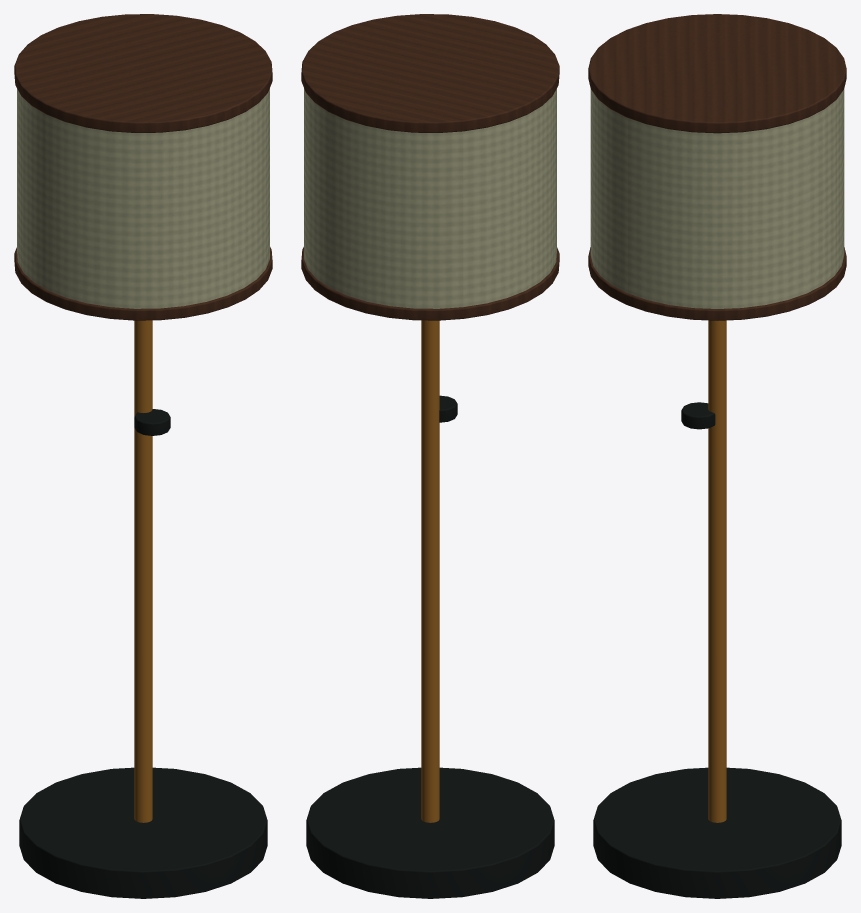
The model's file is floor_lamp.glb.
The picture shows the model from 3 angles, left to right: view 1: azimuth 30°, elevation 25°; view 2: azimuth 150°, elevation 25°; view 3: azimuth 270°, elevation 25°; orthographic projection.
Visible parts, largest first — view 1: V2_floor_lamp_cloth, V2_floor_lamp_walnut, V2_floor_lamp_metal, V2_floor_lamp_brass; view 2: V2_floor_lamp_cloth, V2_floor_lamp_walnut, V2_floor_lamp_metal, V2_floor_lamp_brass; view 3: V2_floor_lamp_cloth, V2_floor_lamp_walnut, V2_floor_lamp_metal, V2_floor_lamp_brass.
Part boxes in pixels (x1,y1,x2,y2): V2_floor_lamp_cloth: (17, 88, 269, 308); V2_floor_lamp_walnut: (14, 14, 272, 320); V2_floor_lamp_metal: (19, 409, 267, 898); V2_floor_lamp_brass: (134, 320, 152, 822); V2_floor_lamp_cloth: (304, 88, 556, 308); V2_floor_lamp_walnut: (301, 14, 559, 320); V2_floor_lamp_metal: (306, 395, 554, 898); V2_floor_lamp_brass: (421, 320, 439, 822); V2_floor_lamp_cloth: (590, 89, 844, 308); V2_floor_lamp_walnut: (588, 14, 846, 320); V2_floor_lamp_metal: (593, 402, 841, 898); V2_floor_lamp_brass: (708, 320, 726, 822).
Bounding box in the file's own units: 0.5 × 1.66 × 0.5.
4 materials, 2 textured.
